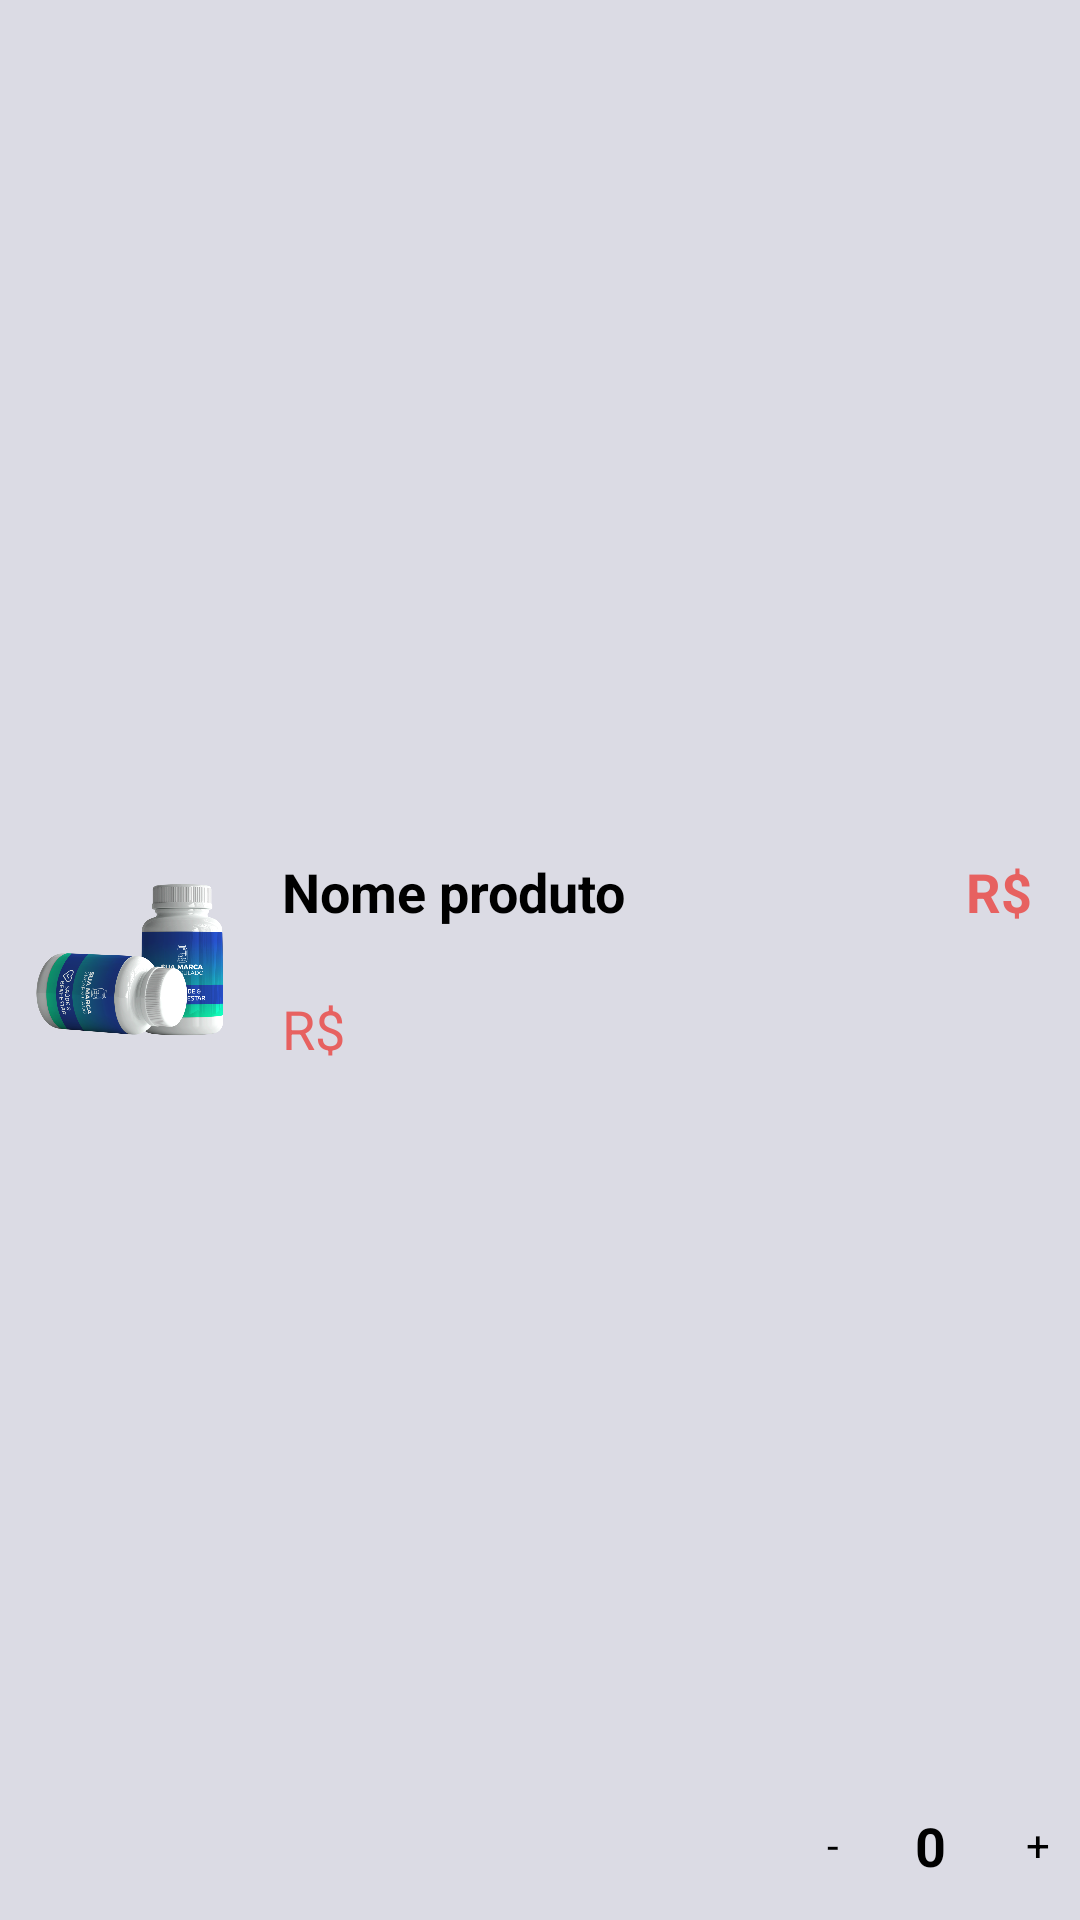

Icons on this 1080 × 1920 Android screen, each with the point to tap as [x,y]:
encapsulado: [129,959]
